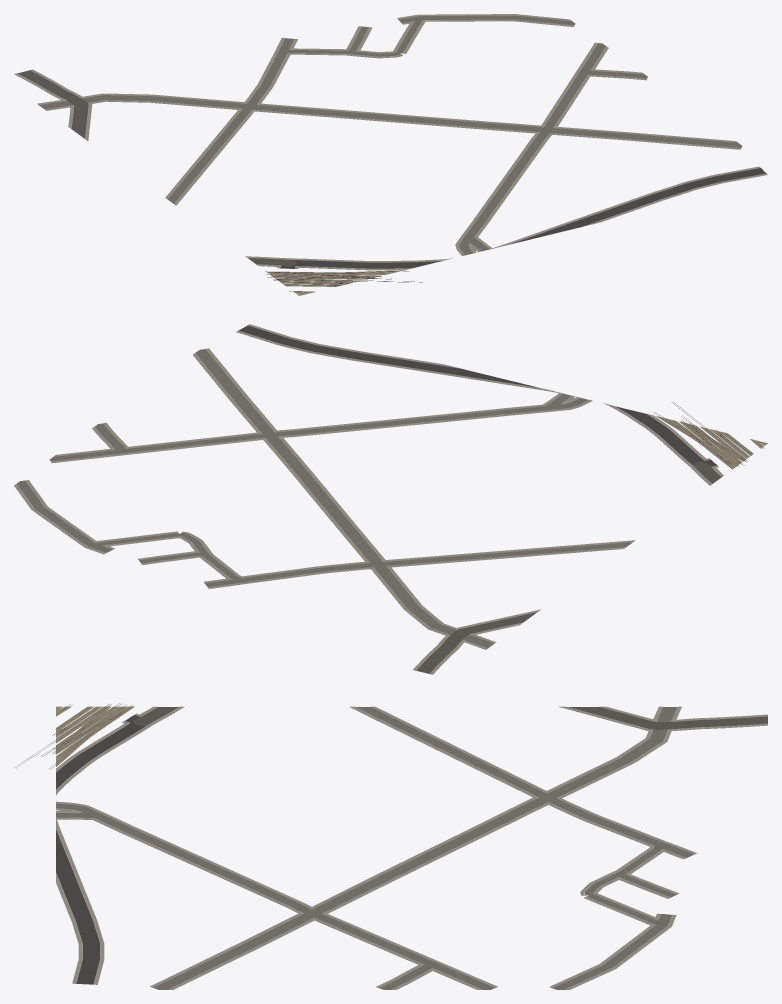
Rendered from Ulice_3_2.fbx.
3 views of the same model, one above another, from view 1: azimuth 30°, elevation 25°; view 2: azimuth 150°, elevation 25°; view 3: azimuth 270°, elevation 25° (orthographic). The views are drawn at different scales.
Parts seen in each view (by area): view 1: Ulica_3_2, Chodnik_3_2, Tory_3_2; view 2: Ulica_3_2, Chodnik_3_2, Tory_3_2; view 3: Ulica_3_2, Chodnik_3_2, Tory_3_2.
Boxes of the visible parts, x1,y1,x2,y2 form: Ulica_3_2: (18,15,765,268); Chodnik_3_2: (14,14,767,270); Tory_3_2: (265,270,422,295); Ulica_3_2: (17,325,721,673); Chodnik_3_2: (14,324,723,674); Tory_3_2: (653,402,767,469); Ulica_3_2: (56,707,767,989); Chodnik_3_2: (56,706,767,989); Tory_3_2: (14,703,134,769).
Bounding box in the file's own units: 475 × 0.5001 × 529.
